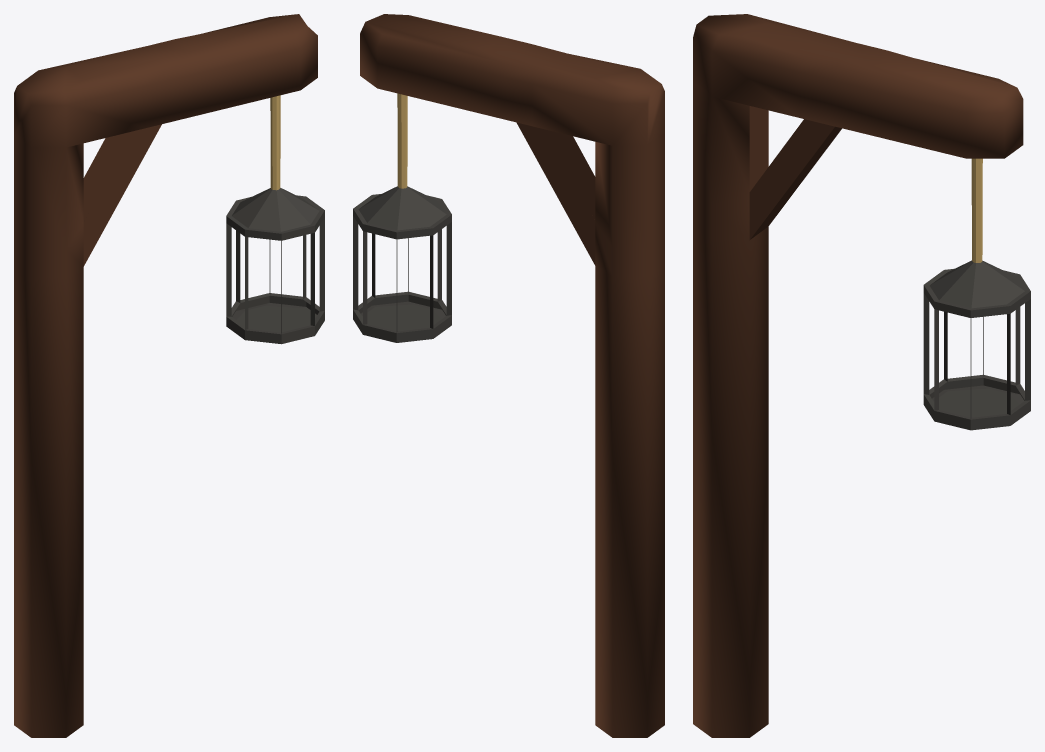
The model's file is torch_stand.fbx.
The picture shows the model from 3 angles, left to right: view 1: azimuth 30°, elevation 25°; view 2: azimuth 150°, elevation 25°; view 3: azimuth 330°, elevation 25°; orthographic projection. The views are drawn at different scales.
Visible parts, largest first — view 1: Cylinder; view 2: Cylinder; view 3: Cylinder.
Boxes of the visible parts, left/top/right/bottom form: Cylinder: left=14, top=14, right=324, bottom=737; Cylinder: left=353, top=14, right=664, bottom=737; Cylinder: left=693, top=14, right=1030, bottom=737.
Size of the model in its own units: 138 by 290 by 36.9.
